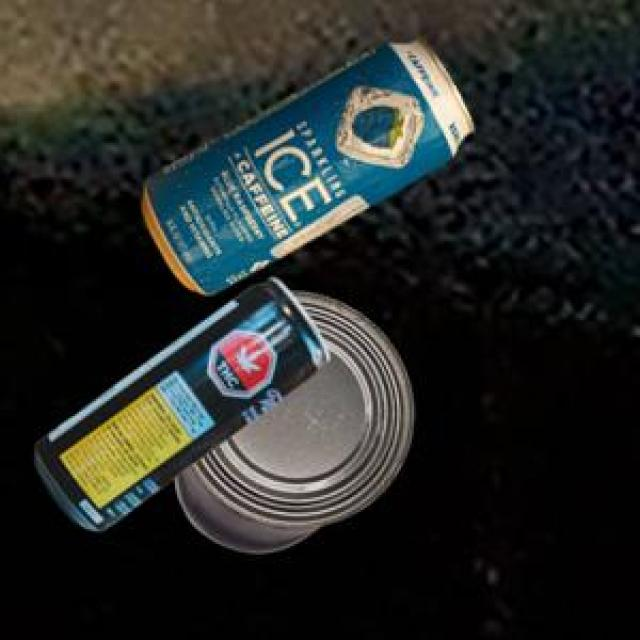logam: (140, 35, 470, 291), (33, 274, 325, 528), (172, 289, 411, 549)
